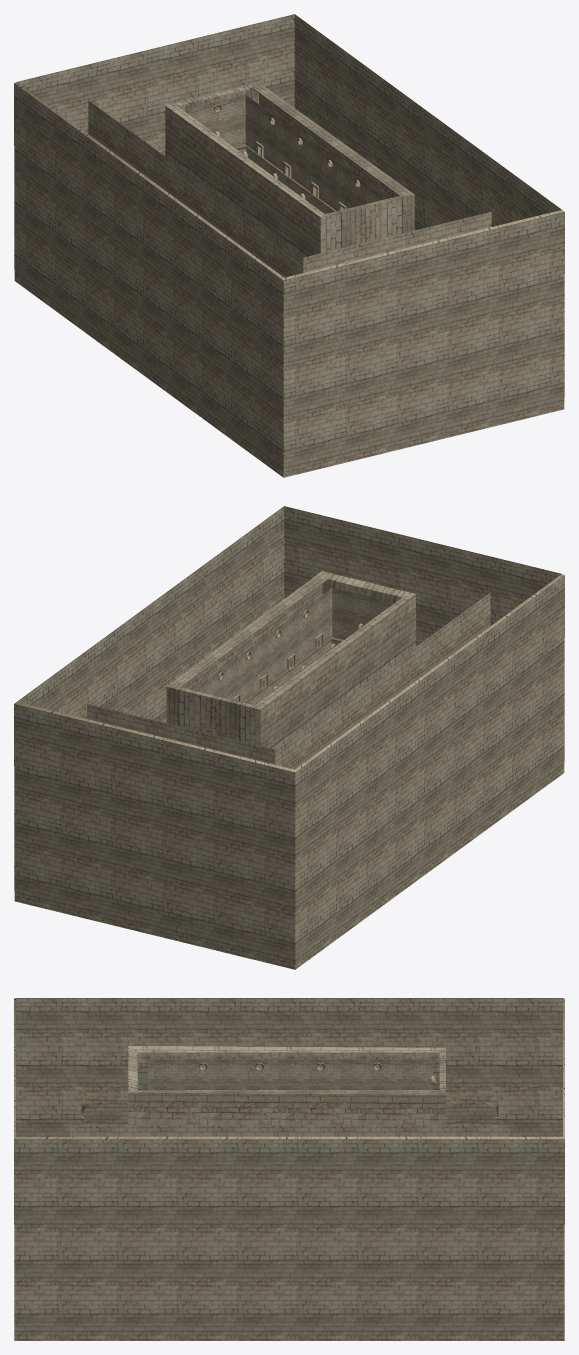
The model's file is sponza.gltf.
3 views of the same model, one above another, from view 1: azimuth 30°, elevation 25°; view 2: azimuth 150°, elevation 25°; view 3: azimuth 270°, elevation 25° (orthographic). The views are drawn at different scales.
Parts seen in each view (by area): view 1: n_1; view 2: n_1; view 3: n_1.
Boxes of the visible parts, box(x1,y1,x2,y2) form: n_1: box(14, 14, 564, 477); n_1: box(14, 506, 564, 969); n_1: box(14, 998, 564, 1340).
Size of the model in its own units: 30.5 by 20.63 by 50.59.
8 materials, 8 textured.
